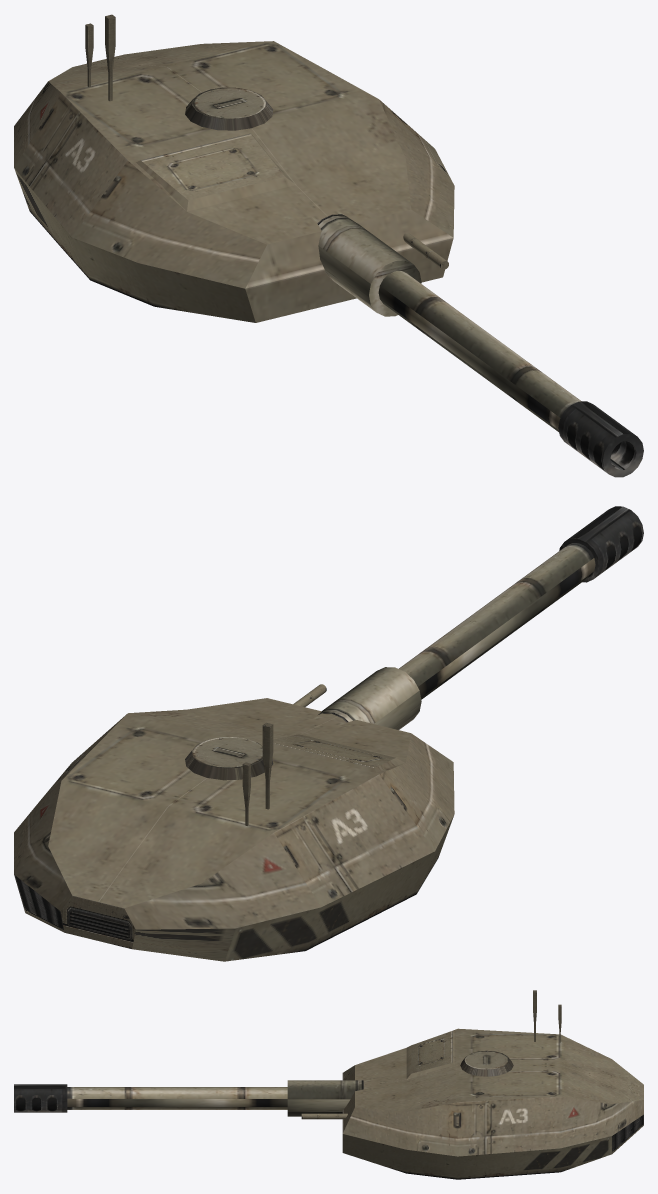
The model's file is mammoth_tower.dae.
3 renders of one model, top to bottom at view 1: azimuth 30°, elevation 25°; view 2: azimuth 150°, elevation 25°; view 3: azimuth 270°, elevation 25°, orthographic. The views are drawn at different scales.
Parts seen in each view (by area): view 1: mammoth_tower; view 2: mammoth_tower; view 3: mammoth_tower.
Part boxes in pixels (<box>): mammoth_tower: <box>14,14,643,477</box>; mammoth_tower: <box>14,506,643,961</box>; mammoth_tower: <box>14,990,643,1179</box>.
Bounding box in the file's own units: 11.06 × 27.7 × 5.71.
